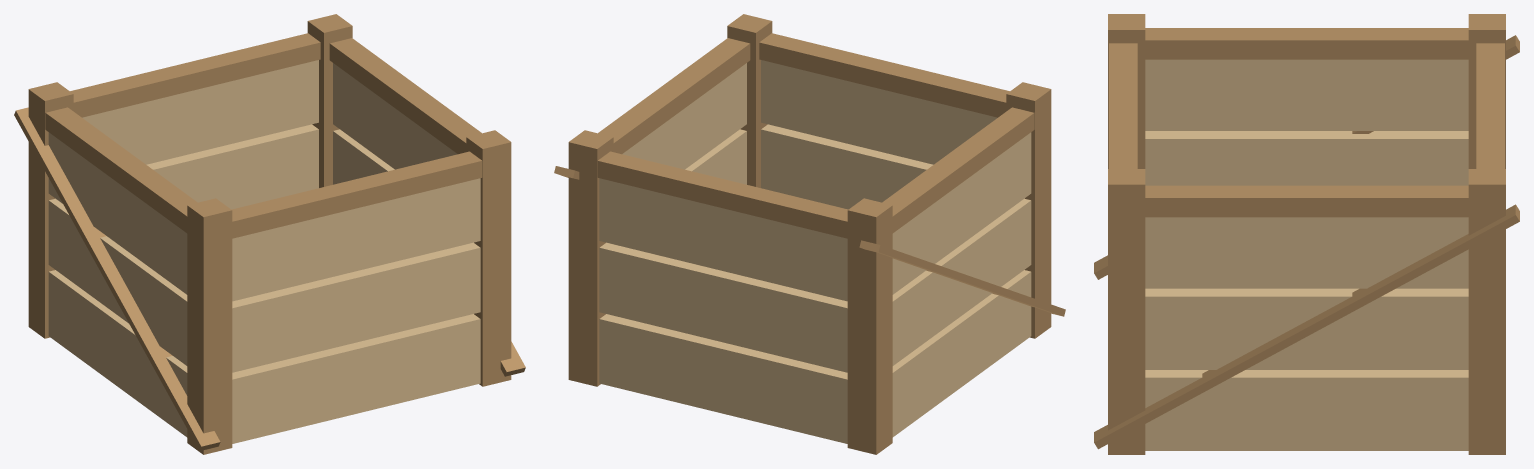
The model's file is crate_wood.glb.
3 views of the same model, side by side, from view 1: azimuth 30°, elevation 25°; view 2: azimuth 150°, elevation 25°; view 3: azimuth 270°, elevation 25° (orthographic). The views are drawn at different scales.
Visible parts, largest first — view 1: crate_wood; view 2: crate_wood; view 3: crate_wood.
Part boxes in pixels (left/top/right/bottom): crate_wood: left=14, top=14, right=525, bottom=454; crate_wood: left=554, top=14, right=1065, bottom=454; crate_wood: left=1094, top=14, right=1519, bottom=454.
Bounding box in the file's own units: 1 × 0.7 × 1.
